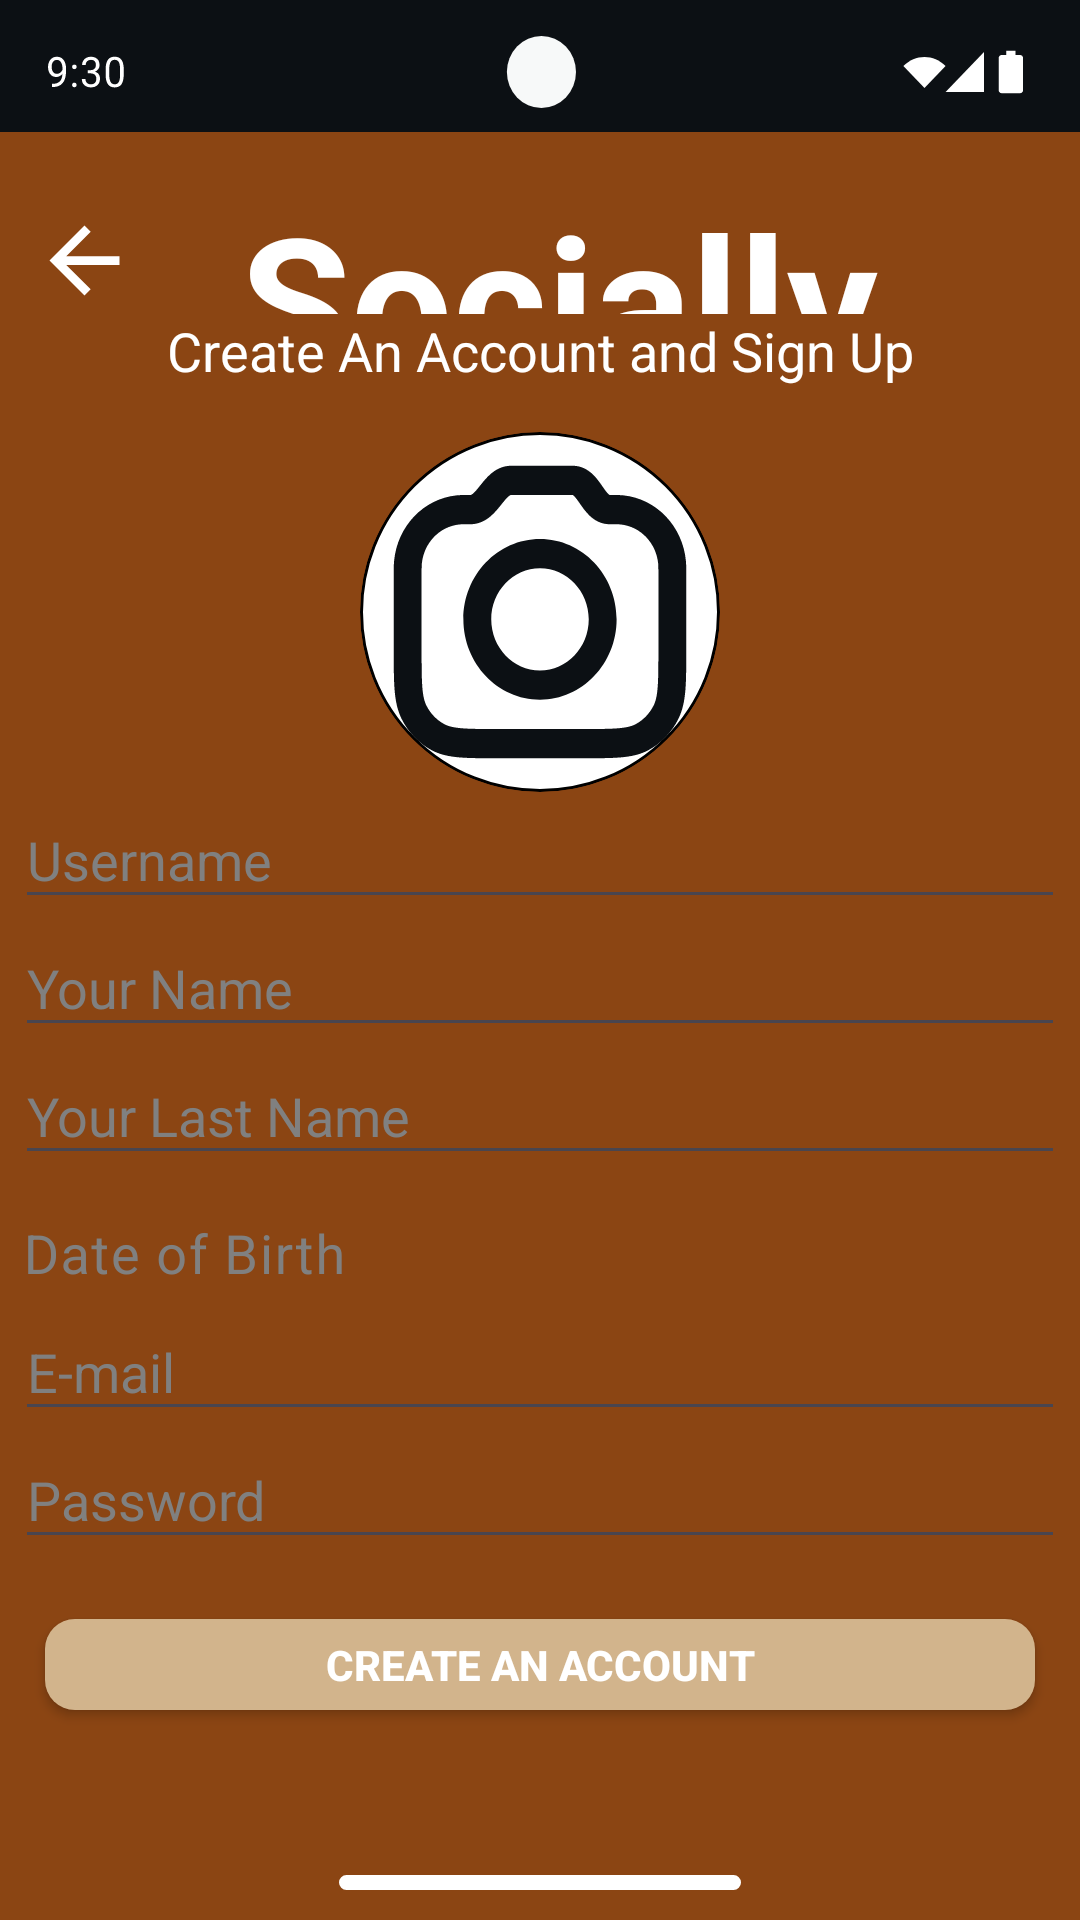

Icon bounding boxes for this 1080 × 1920 phone screenshot, format rect(x1, y1, x2, y2):
camera: rect(360, 432, 720, 792)
